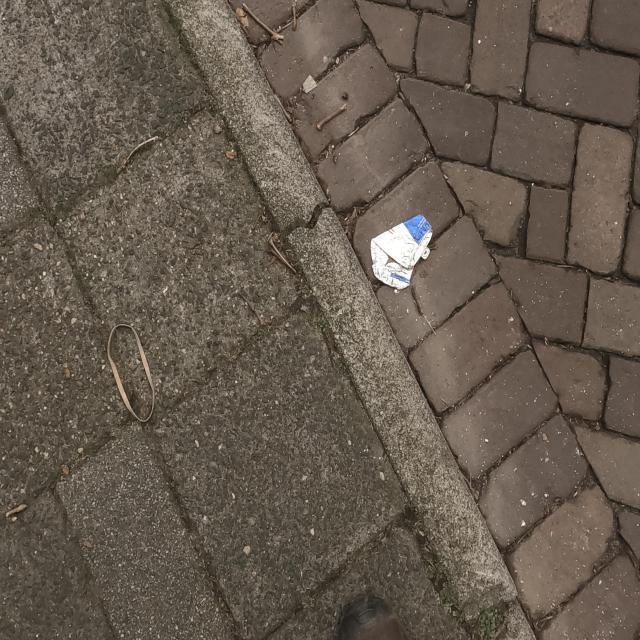Can-Metal: (371, 212, 434, 290)
